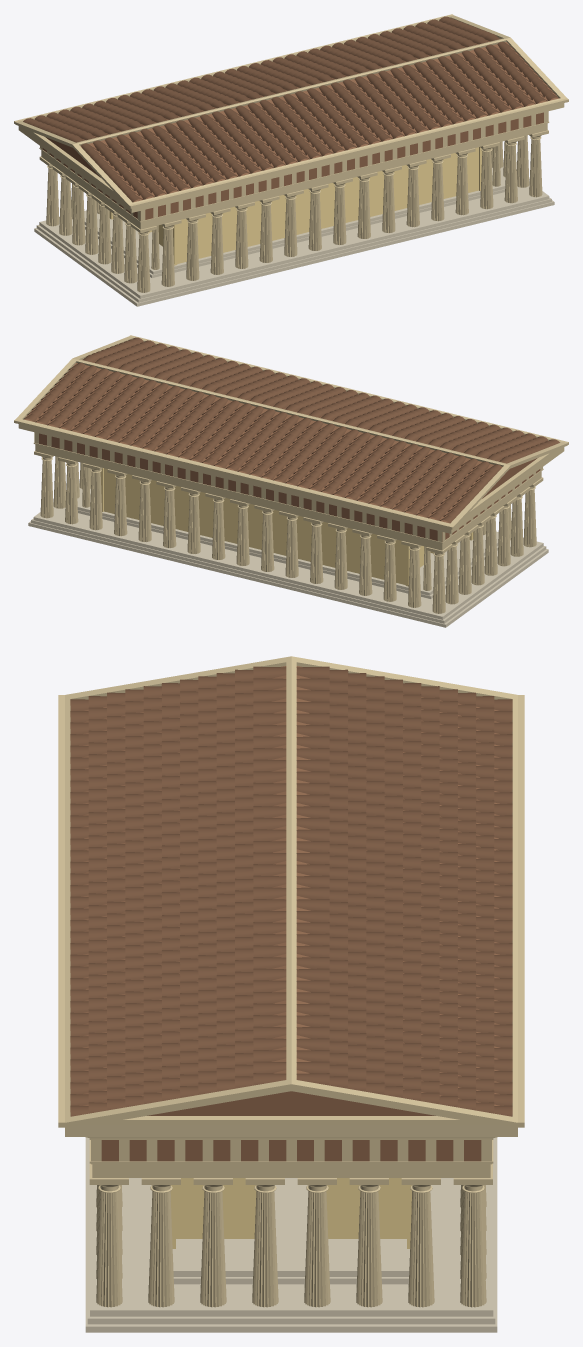
File: parphenon_model.fbx
3 renders of one model, top to bottom at view 1: azimuth 30°, elevation 25°; view 2: azimuth 150°, elevation 25°; view 3: azimuth 270°, elevation 25°, orthographic. The views are drawn at different scales.
Parts seen in each view (by area): view 1: Group001, Partenon_4, Box001, paredes, Partenon_3, cornisa_exterior, Box002; view 2: Group001, Partenon_4, Box001, paredes, Partenon_3, cornisa_exterior, Box002; view 3: Group001, Partenon_4, Box001, Box002, Partenon_3, paredes, cornisa_exterior.
Boxes of the visible parts, <box> form: Group001: <box>23,16,559,292</box>; Partenon_4: <box>14,14,568,212</box>; Box001: <box>34,162,554,306</box>; paredes: <box>109,147,482,265</box>; Partenon_3: <box>39,112,549,222</box>; cornisa_exterior: <box>41,123,547,229</box>; Box002: <box>84,177,505,277</box>; Group001: <box>23,337,559,613</box>; Partenon_4: <box>14,335,568,533</box>; Box001: <box>28,483,548,627</box>; paredes: <box>100,468,473,586</box>; Partenon_3: <box>33,433,543,543</box>; cornisa_exterior: <box>35,444,541,550</box>; Box002: <box>77,498,498,598</box>; Group001: <box>70,666,512,1307</box>; Partenon_4: <box>58,656,524,1136</box>; Box001: <box>85,1137,497,1332</box>; Box002: <box>150,1178,432,1284</box>; Partenon_3: <box>85,1137,497,1164</box>; paredes: <box>170,1178,411,1248</box>; cornisa_exterior: <box>92,1164,490,1177</box>.
Bounding box in the file's own units: 0.193 × 0.0538 × 0.0889.
